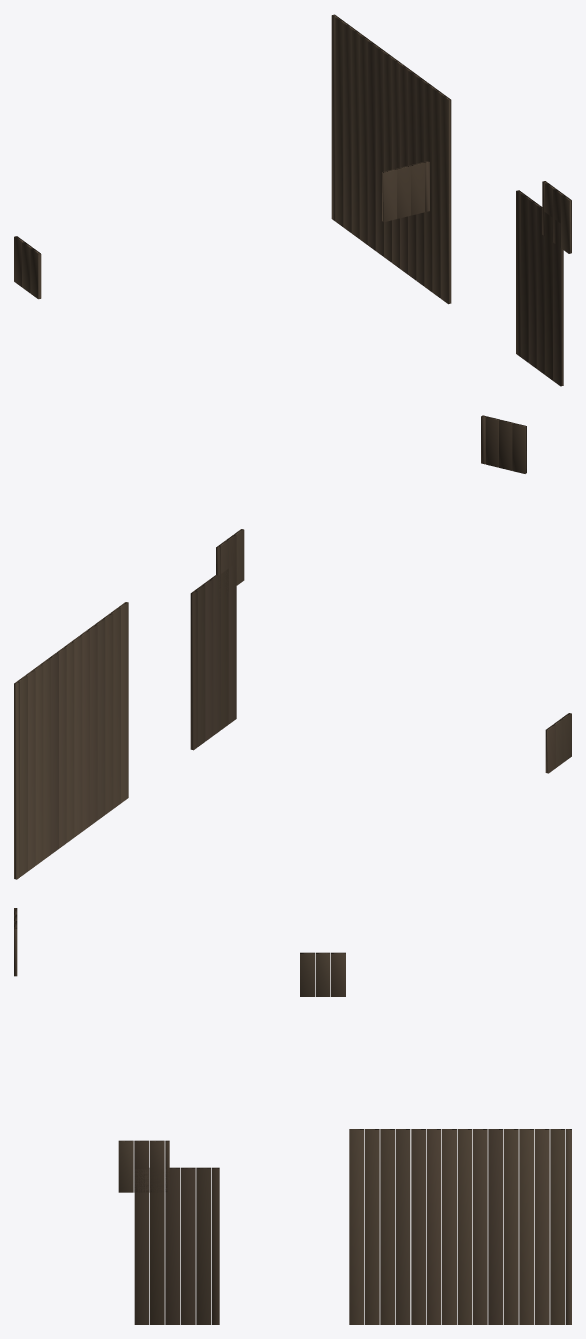
File: SM_BarnWood_05.glb
The picture shows the model from 3 angles, top to bottom: view 1: azimuth 30°, elevation 25°; view 2: azimuth 150°, elevation 25°; view 3: azimuth 270°, elevation 25°; orthographic projection. The views are drawn at different scales.
Visible parts, largest first — view 1: SM_BarnWood_05; view 2: SM_BarnWood_05; view 3: SM_BarnWood_05.
Boxes of the visible parts, x1=… form: SM_BarnWood_05: x1=14, y1=14, x2=571, y2=386; SM_BarnWood_05: x1=14, y1=415, x2=571, y2=879; SM_BarnWood_05: x1=14, y1=908, x2=571, y2=1324.
Bounding box in the file's own units: 5.64 × 3.9 × 6.5.
